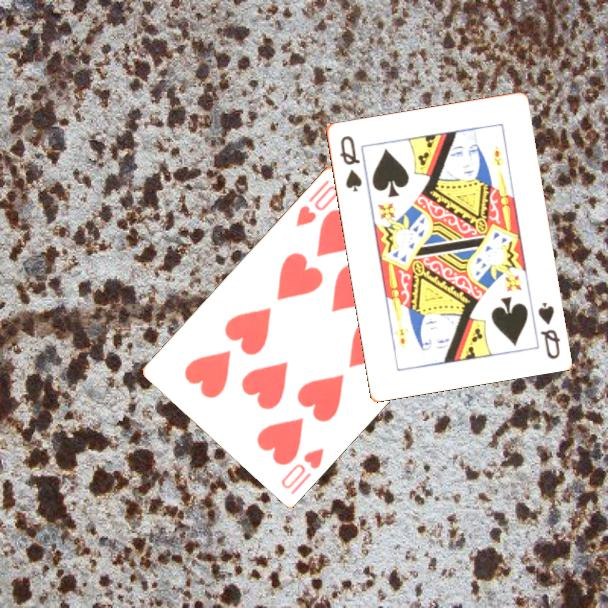h10: (292, 176, 342, 229), (277, 444, 327, 497)
s12: (534, 298, 563, 362), (336, 132, 365, 195)
